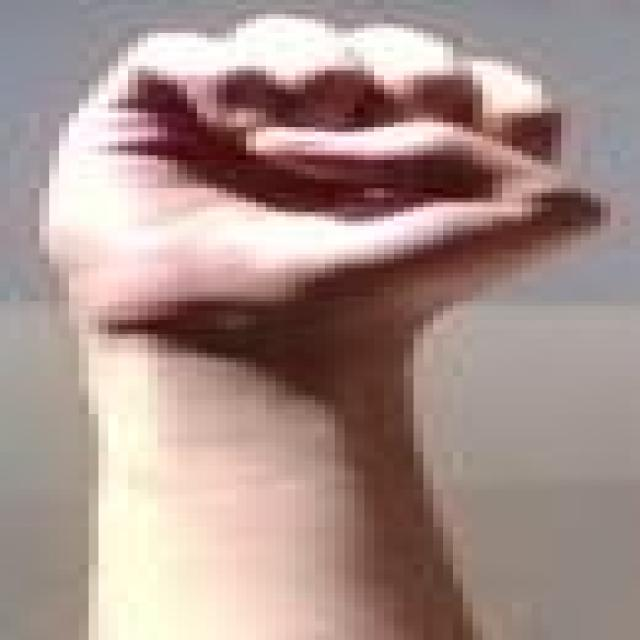E: (3, 5, 640, 354)
